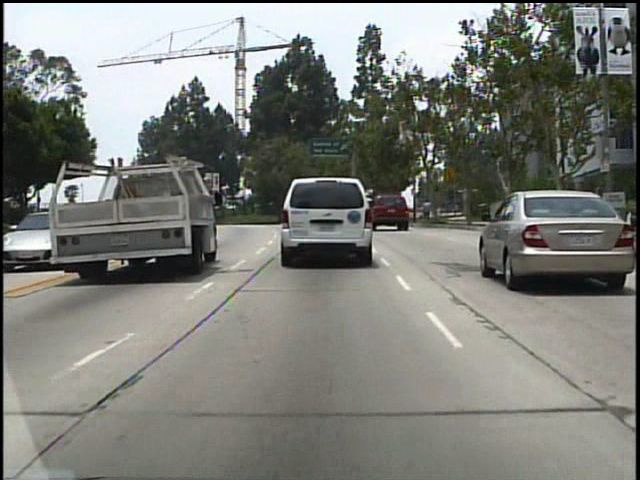person: (421, 194, 435, 226)
